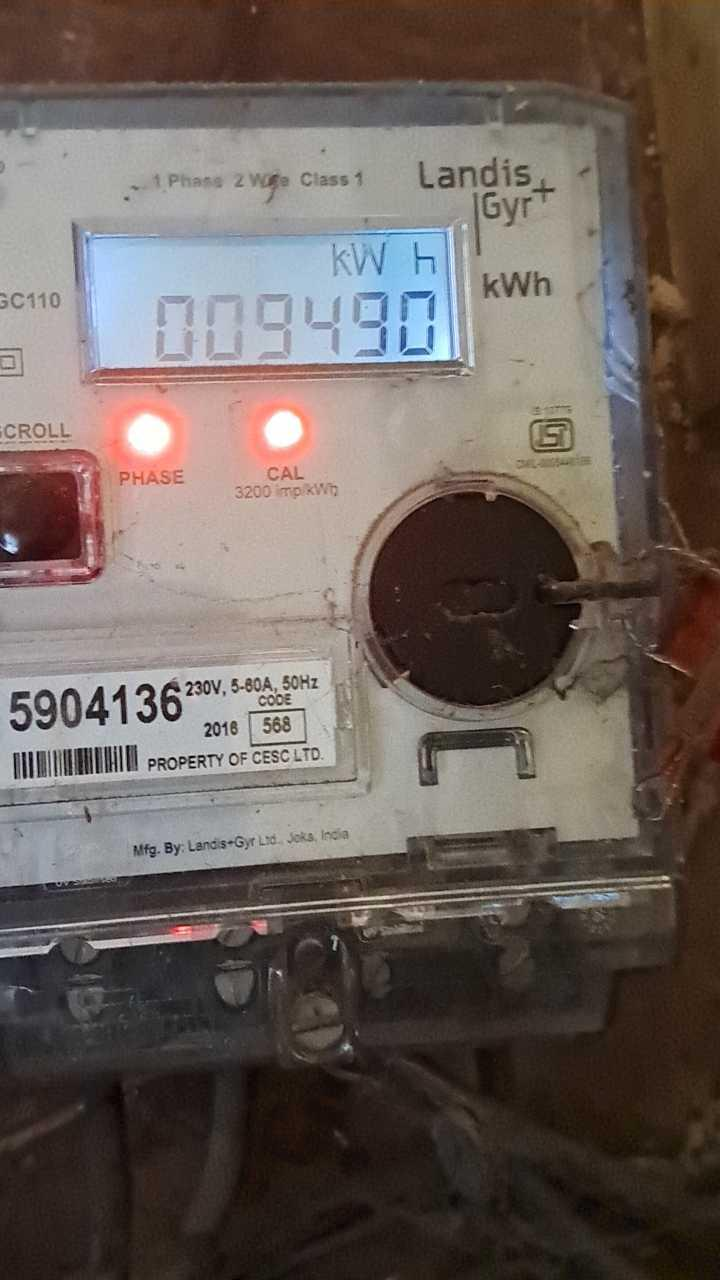meter_readings: (130, 288, 444, 362)
serial_number: (3, 674, 187, 735)
